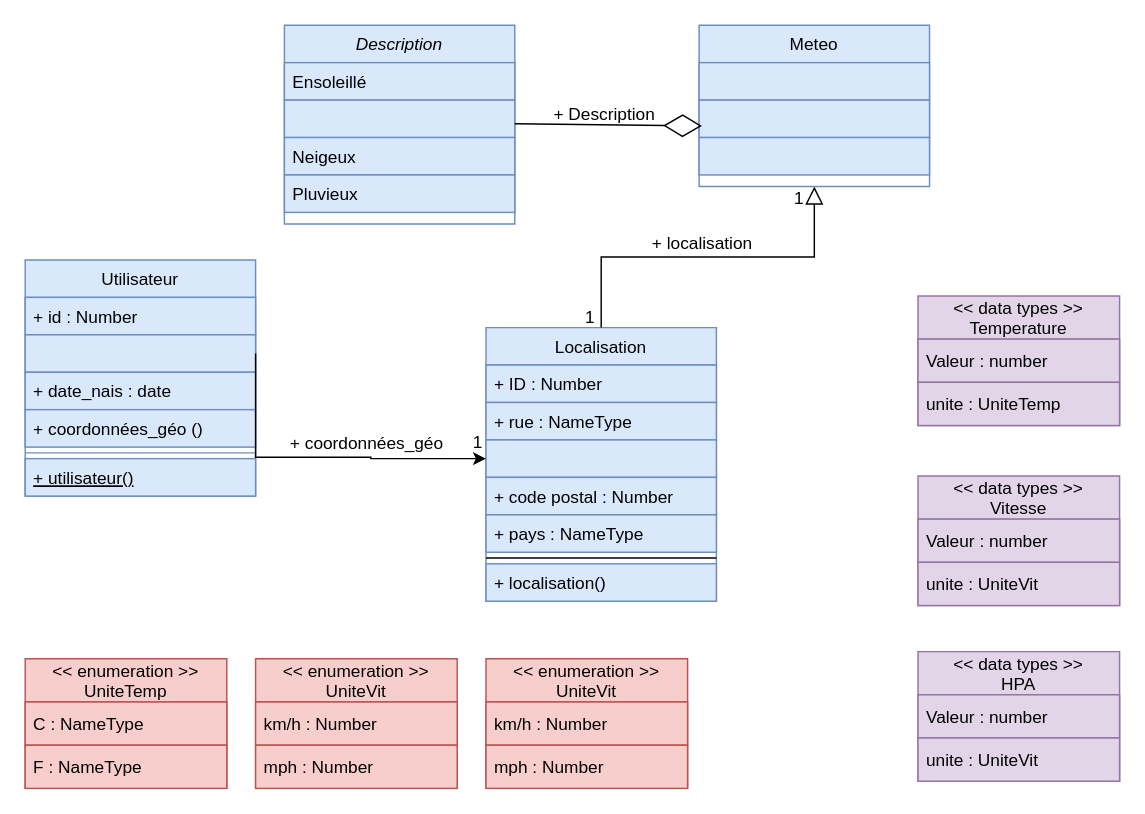
The diagram is 1145 pixels wide and 814 high, and some of its shapes have lost their labels. The box of each missing label's shape, as (x1, y1, x2, y2) in pixels:
+ Description : NameType: (698, 136, 930, 175)
+ nom : NameType: (24, 333, 256, 372)
+ temperature : Number: (698, 99, 930, 138)
+ time: (698, 61, 930, 100)
+ ville : NameType: (485, 438, 716, 477)
Nuageux: (283, 99, 515, 138)
